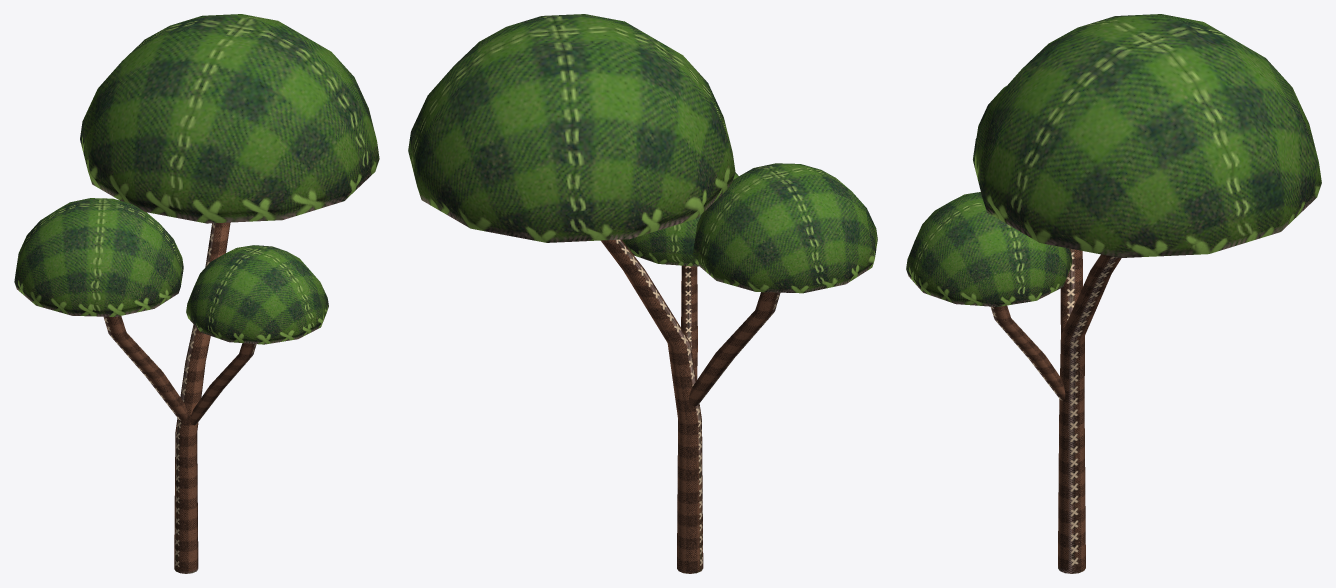
The model's file is lpb_cs_tree14.fbx.
3 views of the same model, side by side, from view 1: azimuth 30°, elevation 25°; view 2: azimuth 150°, elevation 25°; view 3: azimuth 270°, elevation 25° (orthographic). The views are drawn at different scales.
Parts seen in each view (by area): view 1: lpb_cs_tree14; view 2: lpb_cs_tree14; view 3: lpb_cs_tree14.
Part boxes in pixels (box(x1,y1,x2,y2)): lpb_cs_tree14: box(14, 14, 379, 573); lpb_cs_tree14: box(408, 14, 877, 573); lpb_cs_tree14: box(906, 14, 1321, 573).
Bounding box in the file's own units: 180 × 233 × 152.
